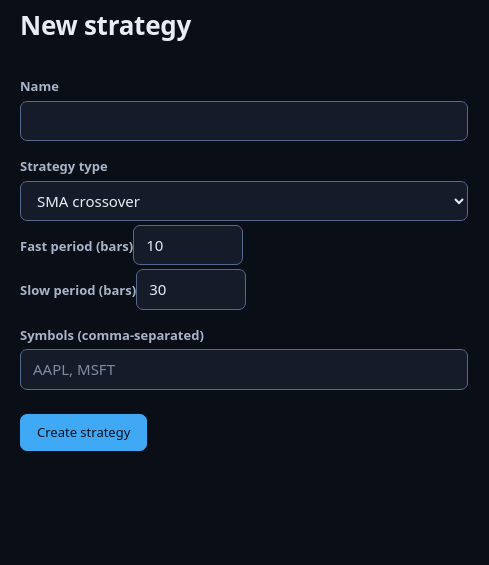
Test: StrategyEditor › rejects a fast period that is not less than the slow period, without a request
Type "Bad strategy" into the field labelled "Name" at (244, 121), box [20,100,468,141]
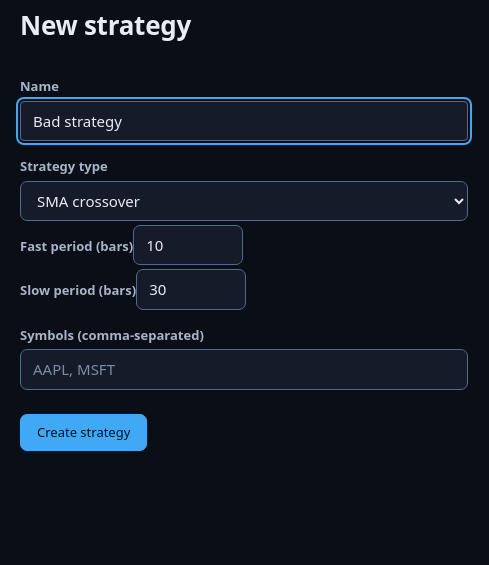
Type "AAPL" into the field labelled "Symbols (comma-separated)" at (244, 369), box [20,349,468,390]
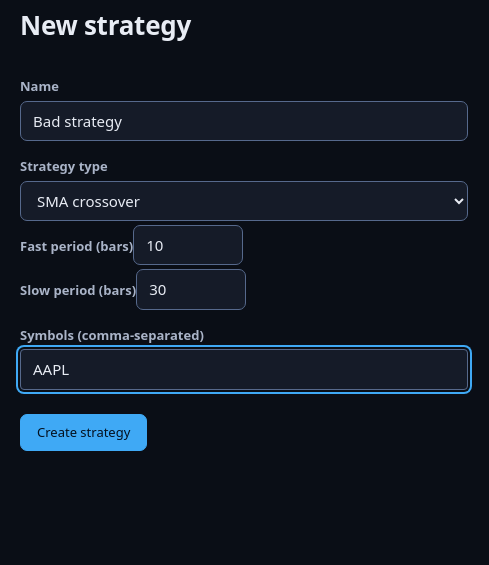
Replace the text in the number field labelled "Fast period (bars)" with "50" at (188, 245), box [133,224,243,265]
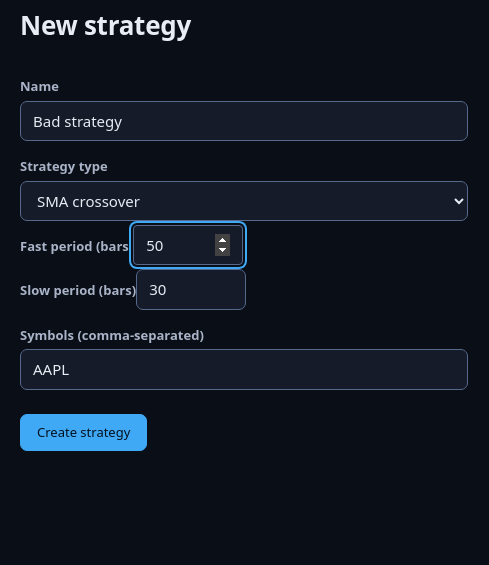
Replace the text in the number field labelled "Slow period (bars)" with "10" at (191, 289), box [136,269,246,310]
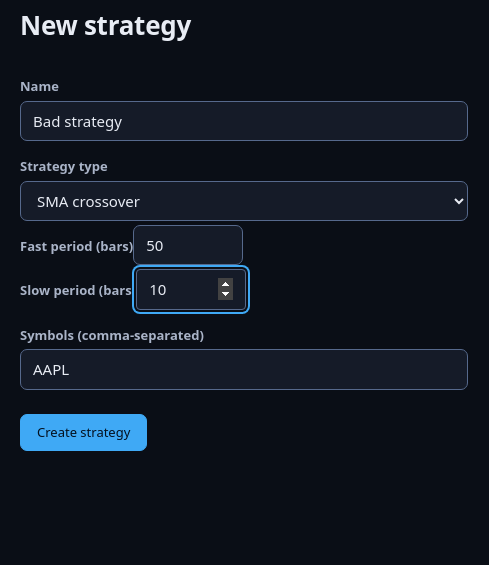
Click the button "Create strategy" at (84, 432), box [20,414,147,451]
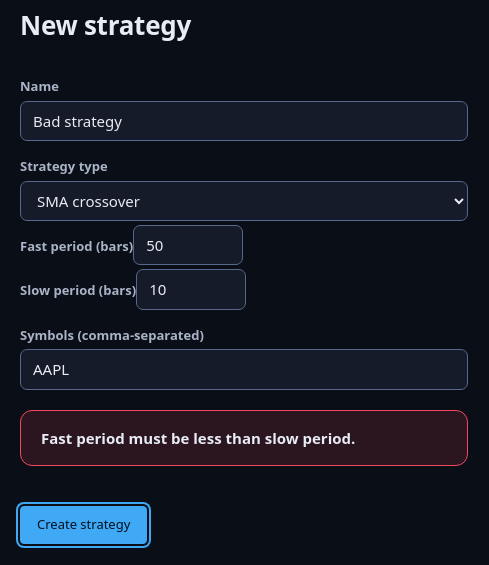
Expected: the message shows "Fast period must be less", [41,428,355,448]
